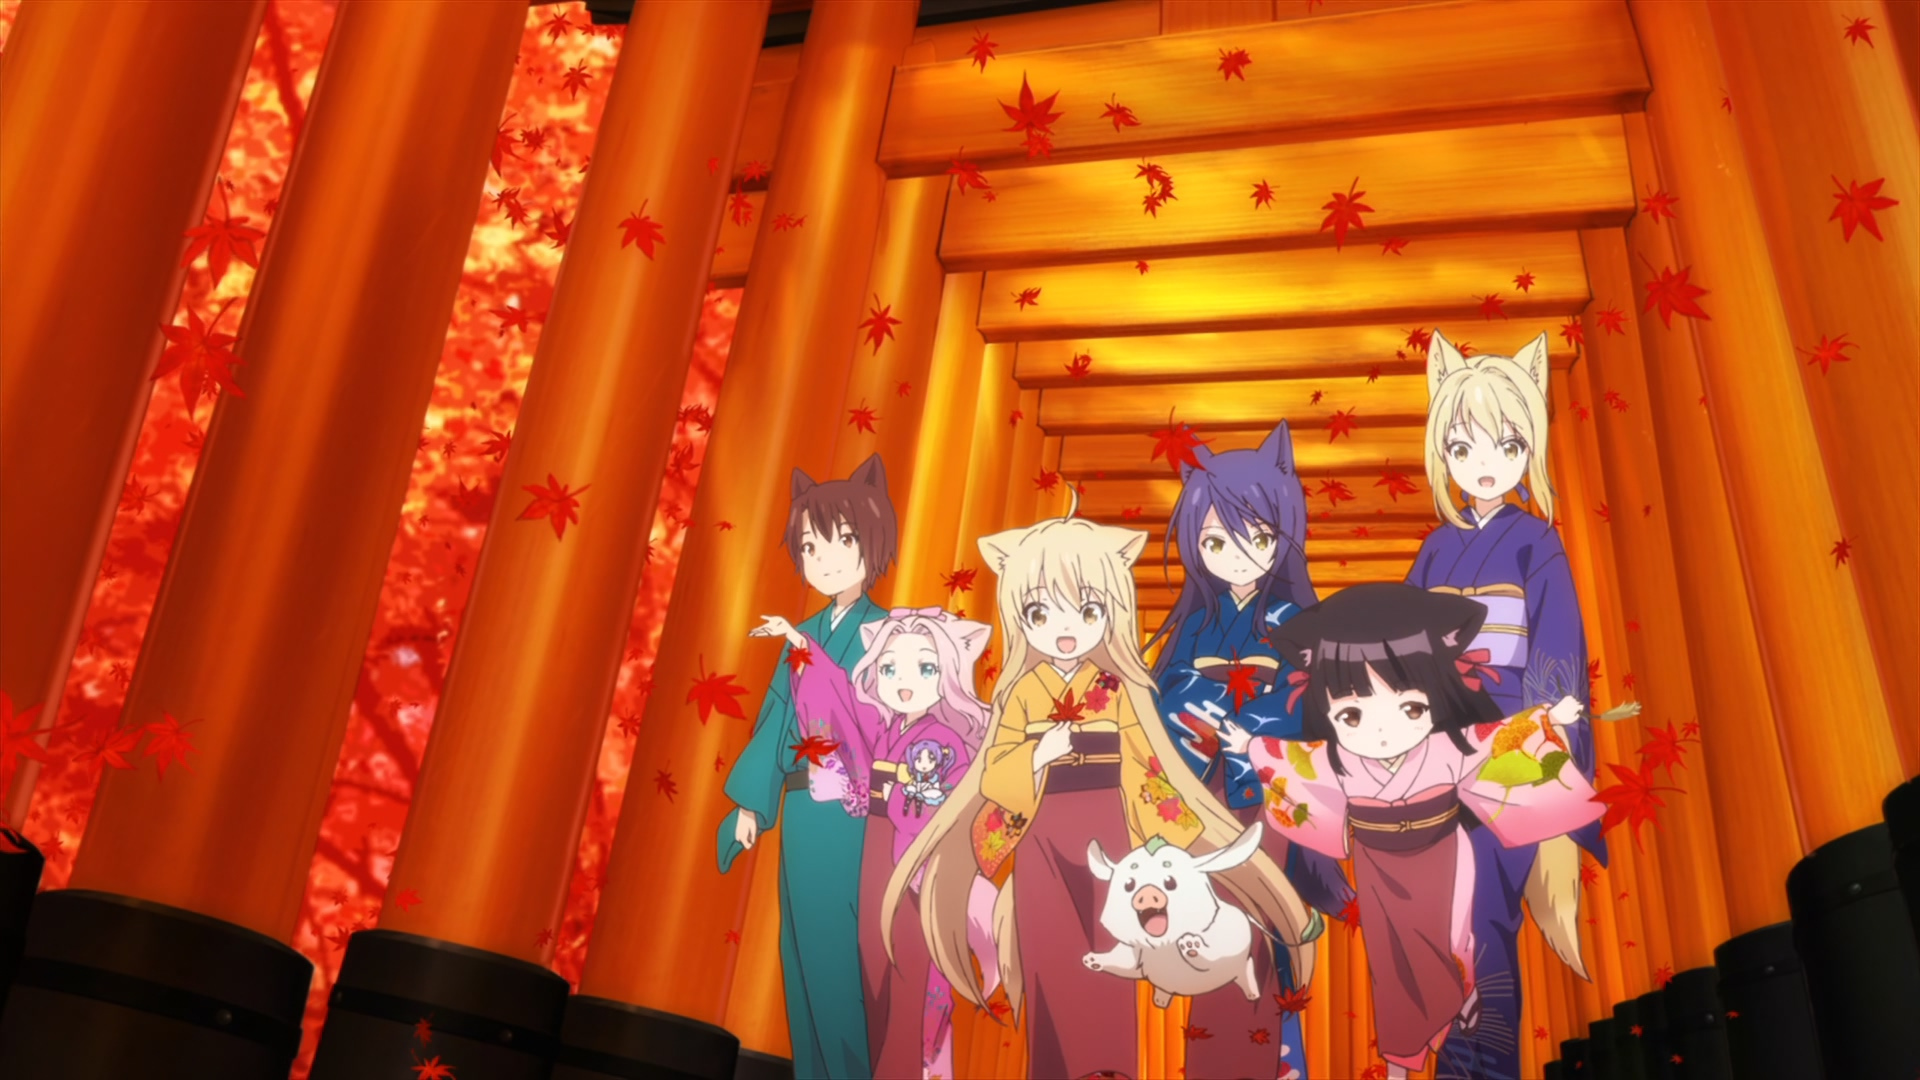枣: (716, 452, 901, 1080)
桐: (1404, 328, 1610, 1080)
樱: (1217, 583, 1582, 1080)
瓜之介: (1083, 823, 1266, 1007)
皋: (1141, 419, 1362, 1080)
莲: (748, 607, 1004, 1080)
阿菊: (901, 738, 956, 818)
